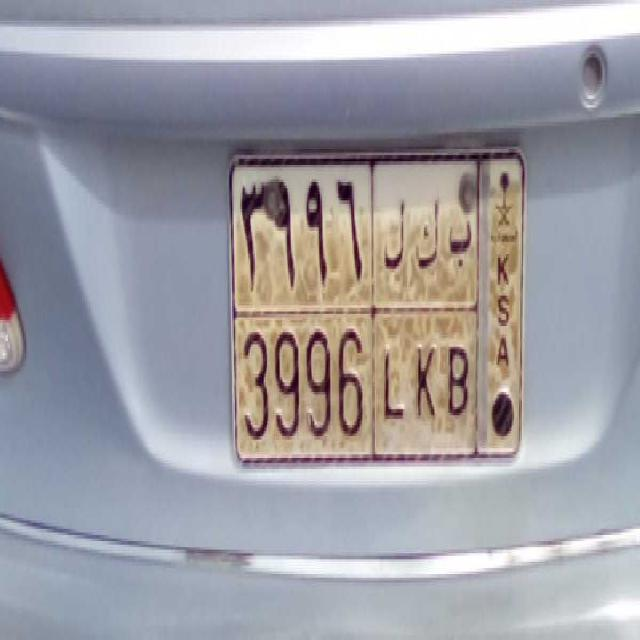license_plate: (235, 307, 479, 458)
